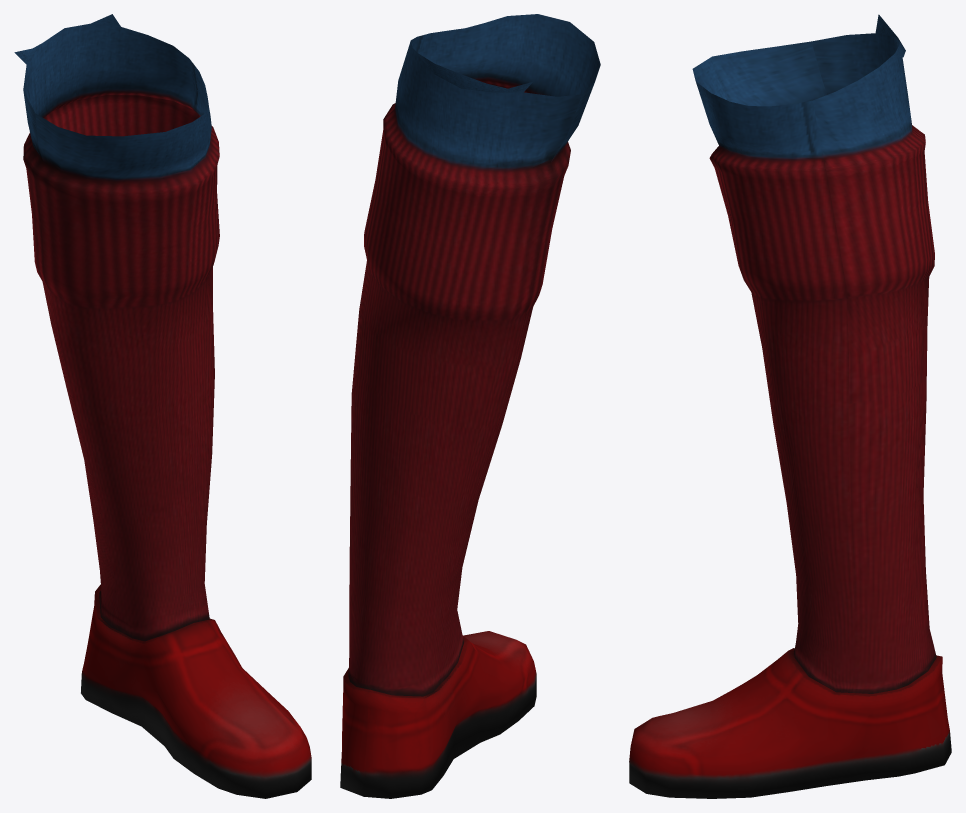
The model's file is piernaizq.obj.
3 views of the same model, side by side, from view 1: azimuth 30°, elevation 25°; view 2: azimuth 150°, elevation 25°; view 3: azimuth 270°, elevation 25° (orthographic). The views are drawn at different scales.
Visible parts, largest first — view 1: polySurface33 polySurface30 polySurface22 polySurface7 homecomin; view 2: polySurface33 polySurface30 polySurface22 polySurface7 homecomin; view 3: polySurface33 polySurface30 polySurface22 polySurface7 homecomin.
Part boxes in pixels (bbox=[...]): polySurface33 polySurface30 polySurface22 polySurface7 homecomin: bbox=[14, 14, 311, 798]; polySurface33 polySurface30 polySurface22 polySurface7 homecomin: bbox=[340, 14, 600, 798]; polySurface33 polySurface30 polySurface22 polySurface7 homecomin: bbox=[629, 14, 951, 798].
Bounding box in the file's own units: 0.0764 × 0.2411 × 0.1009.
Materials: 1 (1 with a texture image).
